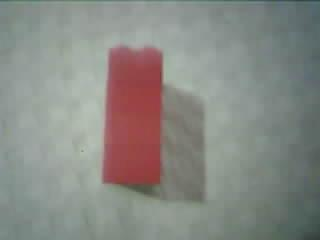lego: (99, 43, 164, 186)
